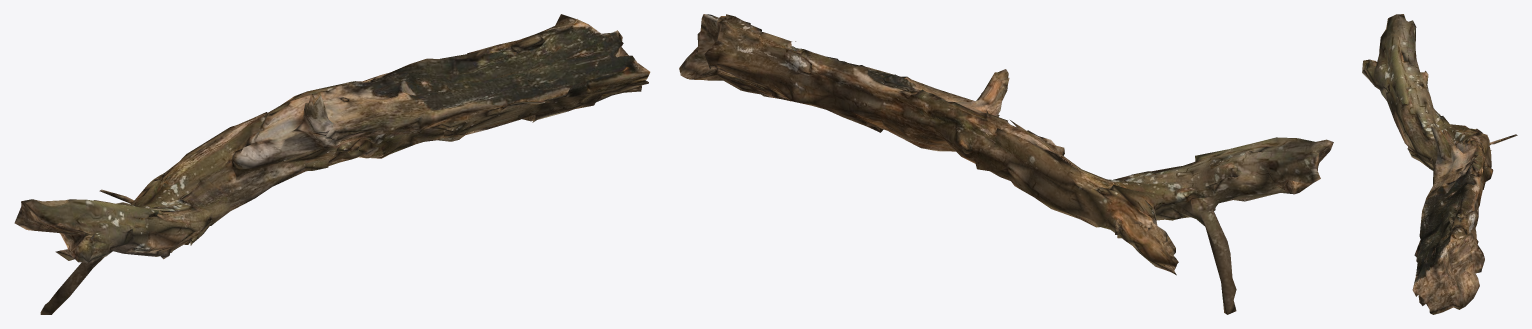
The model's file is dead_tree_trunk_02_lod1.glb.
The picture shows the model from 3 angles, left to right: view 1: azimuth 30°, elevation 25°; view 2: azimuth 150°, elevation 25°; view 3: azimuth 270°, elevation 25°; orthographic projection. The views are drawn at different scales.
Parts seen in each view (by area): view 1: dead_tree_trunk_02; view 2: dead_tree_trunk_02; view 3: dead_tree_trunk_02.
Boxes of the visible parts, x1,y1,x2,y2 form: dead_tree_trunk_02: (14,14,650,314); dead_tree_trunk_02: (679,14,1333,314); dead_tree_trunk_02: (1362,14,1517,314).
Size of the model in its own units: 4.05 by 1.05 by 1.05.
1 material, 1 textured.
